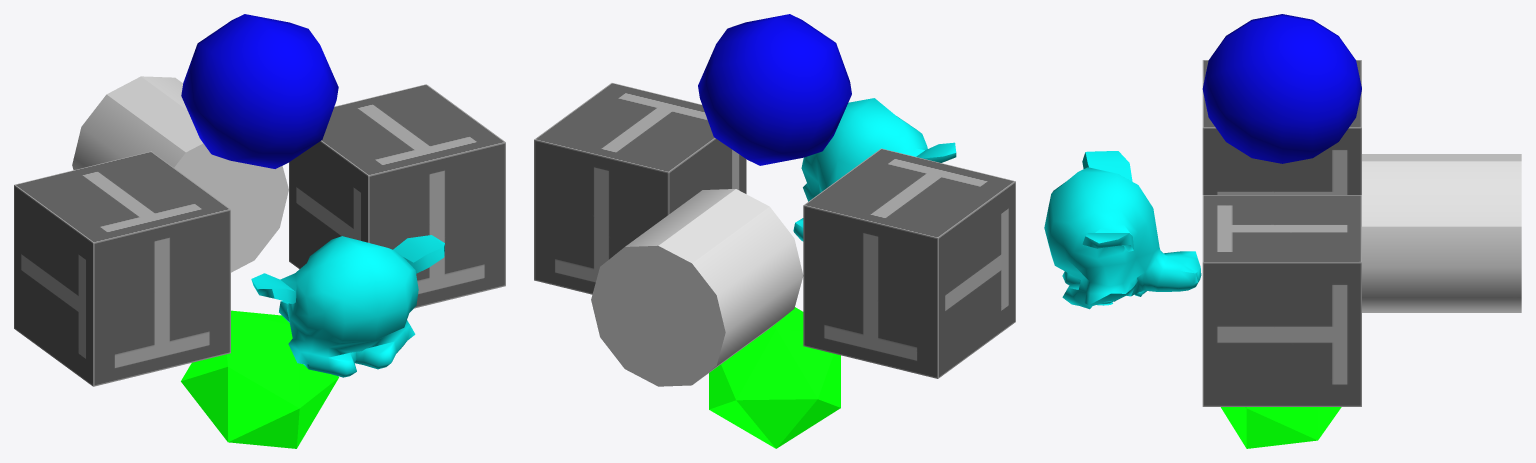
The model's file is result.dae.
The picture shows the model from 3 angles, left to right: view 1: azimuth 30°, elevation 25°; view 2: azimuth 150°, elevation 25°; view 3: azimuth 270°, elevation 25°; orthographic projection. The views are drawn at different scales.
Parts seen in each view (by area): view 1: Cube, Cube.001, Sphere, Suzanne, Cylinder, Icosphere; view 2: Cube, Cylinder, Cube.001, Sphere, Icosphere, Suzanne; view 3: Cube.001, Cylinder, Sphere, Suzanne, Cube, Icosphere.
Boxes of the visible parts, x1,y1,x2,y2 form: Cube: (14,151,230,386); Cube.001: (289,84,505,308); Sphere: (181,14,338,168); Suzanne: (251,235,445,377); Cylinder: (72,76,288,272); Icosphere: (181,310,338,448); Cube: (803,148,1015,378); Cylinder: (591,189,803,386); Cube.001: (534,83,746,294); Sphere: (698,14,851,165); Icosphere: (709,307,840,448); Suzanne: (793,98,956,241); Cube.001: (1202,195,1361,406); Cylinder: (1362,154,1521,312); Sphere: (1202,14,1361,163); Suzanne: (1044,151,1201,309); Cube: (1202,60,1361,194); Icosphere: (1221,407,1341,448).
Size of the model in its own units: 6 by 5.85 by 5.98.
Materials: 4 (1 with a texture image).
